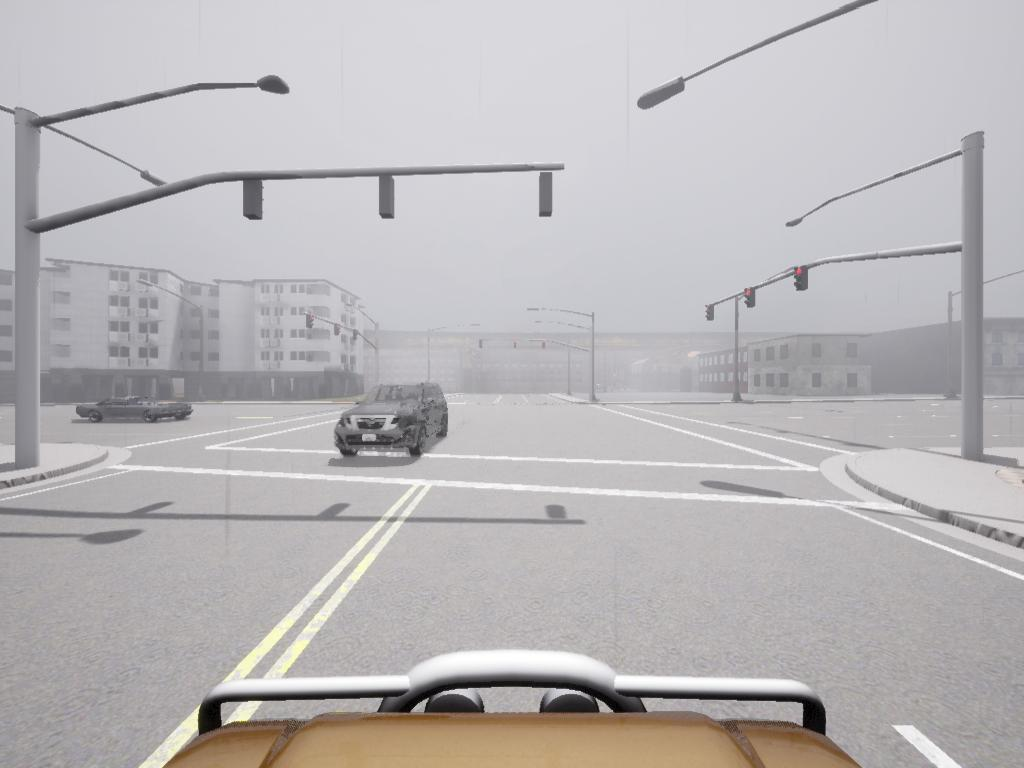traffic_light: (244, 178, 268, 222), (379, 175, 397, 222), (540, 172, 555, 221), (798, 268, 811, 293), (747, 287, 758, 308), (307, 313, 316, 332), (706, 307, 716, 323), (334, 323, 344, 339), (353, 329, 363, 345), (479, 339, 485, 352), (541, 341, 547, 351), (514, 341, 518, 350)
